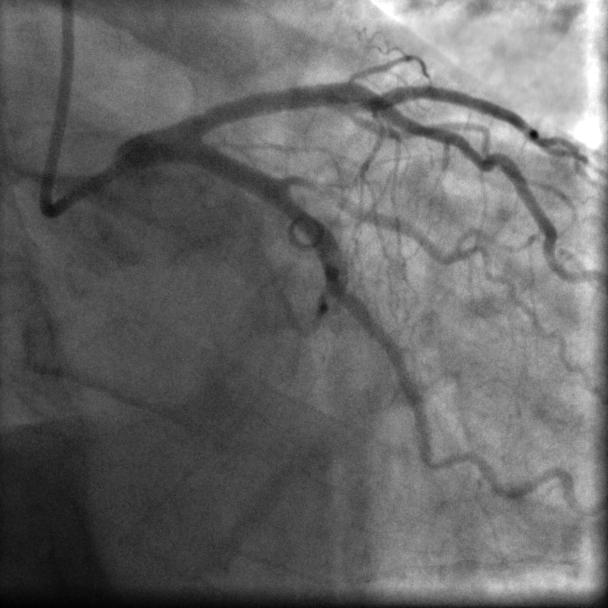Stenosis: (278, 166, 312, 192)
